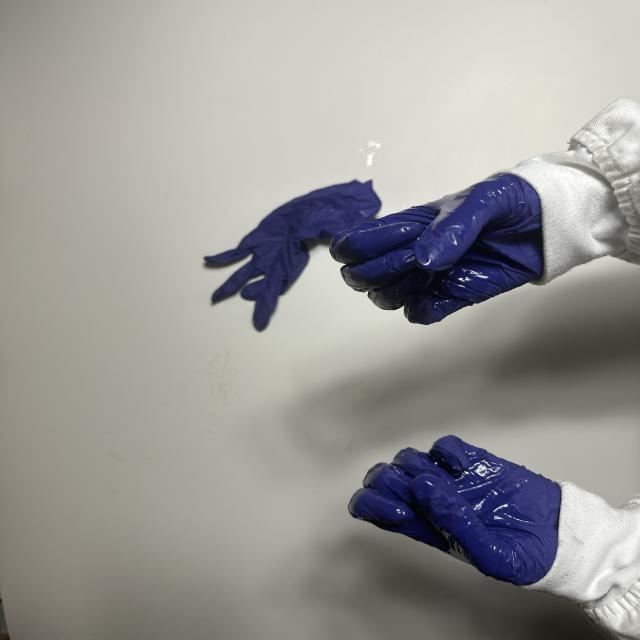gloves_contaminated: (330, 174, 543, 324), (348, 436, 560, 586)
